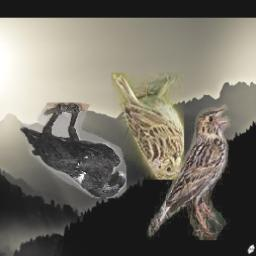Crow: (21, 103, 127, 199)
Sparrow: (148, 104, 232, 240), (111, 74, 184, 181)
